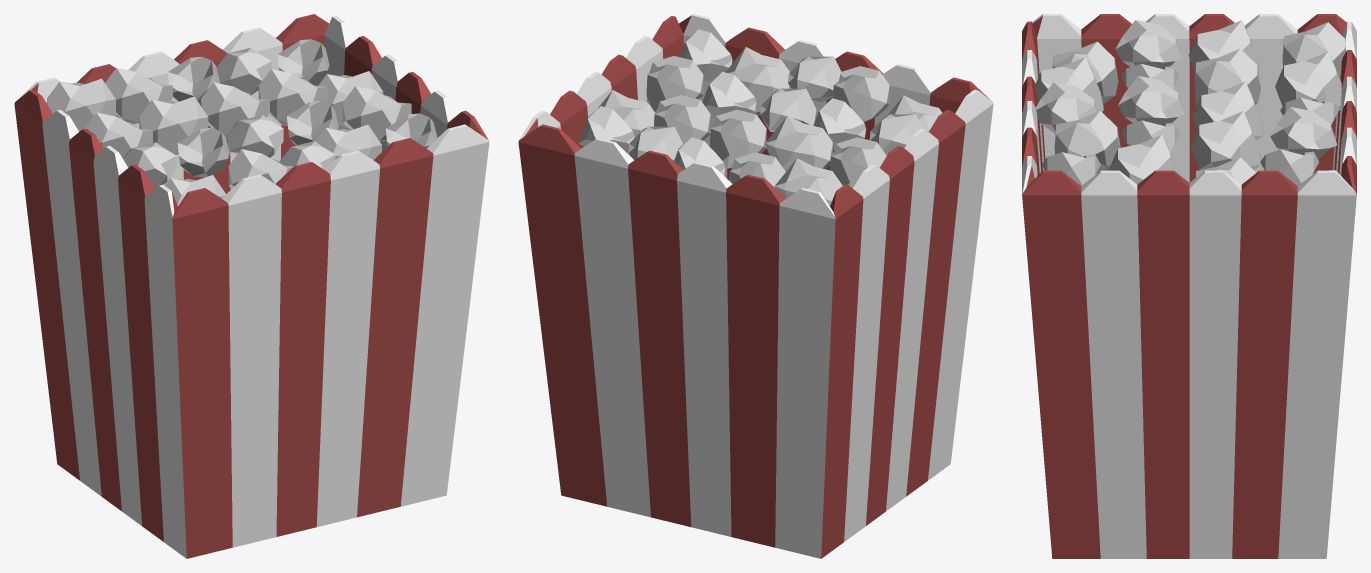
The model's file is Popcorn.FBX.
The picture shows the model from 3 angles, left to right: view 1: azimuth 30°, elevation 25°; view 2: azimuth 150°, elevation 25°; view 3: azimuth 270°, elevation 25°; orthographic projection. The views are drawn at different scales.
Visible parts, largest first — view 1: PopCornBox, Popcorn7, Popcorn15, Popcorn1, Popcorn8, Popcorn9, Popcorn2, Popcorn12, Popcorn4, Popcorn13, Popcorn5, Popcorn6 (+9 smaller); view 2: PopCornBox, Popcorn7, Popcorn8, Popcorn17, Popcorn15, Popcorn19, Popcorn9, Popcorn6, Popcorn18, Popcorn13, Popcorn1, Popcorn14 (+9 smaller); view 3: PopCornBox, Popcorn9, Popcorn2, Popcorn19, Popcorn13, Popcorn4, Popcorn7, Popcorn11, Popcorn8, Popcorn1, Popcorn18, Popcorn15 (+9 smaller).
Boxes of the visible parts, bbox=[...] form: PopCornBox: bbox=[14, 14, 489, 558]; Popcorn7: bbox=[139, 96, 208, 154]; Popcorn15: bbox=[342, 86, 411, 141]; Popcorn1: bbox=[47, 78, 115, 131]; Popcorn8: bbox=[201, 82, 269, 139]; Popcorn9: bbox=[258, 69, 327, 126]; Popcorn2: bbox=[105, 67, 172, 124]; Popcorn12: bbox=[177, 128, 229, 177]; Popcorn4: bbox=[216, 47, 271, 94]; Popcorn13: bbox=[227, 115, 283, 157]; Popcorn5: bbox=[277, 39, 329, 85]; Popcorn6: bbox=[84, 112, 152, 158]; PopCornBox: bbox=[518, 14, 993, 558]; Popcorn7: bbox=[765, 115, 832, 171]; Popcorn8: bbox=[709, 109, 766, 168]; Popcorn17: bbox=[833, 66, 889, 121]; Popcorn15: bbox=[646, 56, 703, 112]; Popcorn19: bbox=[725, 47, 790, 116]; Popcorn9: bbox=[654, 95, 710, 144]; Popcorn6: bbox=[830, 137, 886, 188]; Popcorn18: bbox=[788, 56, 841, 102]; Popcorn13: bbox=[760, 88, 816, 132]; Popcorn1: bbox=[774, 158, 842, 205]; Popcorn14: bbox=[702, 72, 756, 117]; PopCornBox: bbox=[1022, 14, 1356, 558]; Popcorn9: bbox=[1190, 111, 1261, 169]; Popcorn2: bbox=[1275, 52, 1341, 110]; Popcorn19: bbox=[1054, 110, 1120, 174]; Popcorn13: bbox=[1118, 76, 1184, 125]; Popcorn4: bbox=[1270, 107, 1337, 159]; Popcorn7: bbox=[1194, 48, 1260, 106]; Popcorn11: bbox=[1115, 20, 1182, 68]; Popcorn8: bbox=[1192, 81, 1263, 140]; Popcorn1: bbox=[1282, 22, 1346, 79]; Popcorn18: bbox=[1036, 82, 1097, 133]; Popcorn15: bbox=[1109, 134, 1177, 184].
Size of the model in its own units: 69.44 by 80.52 by 59.91.
